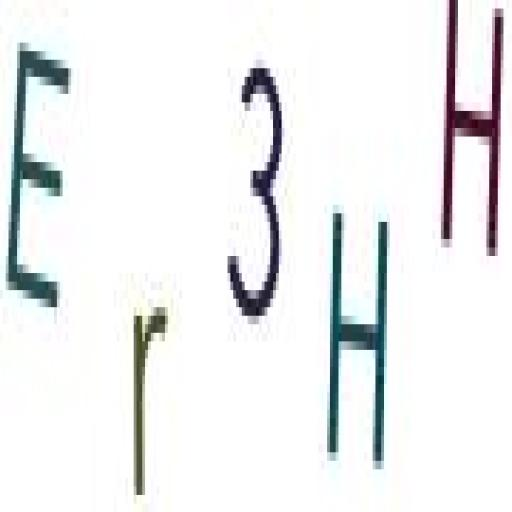3: (228, 60, 286, 330)
E: (4, 22, 76, 337)
H: (324, 189, 396, 488), (442, 0, 502, 263)
r: (124, 289, 174, 506)
